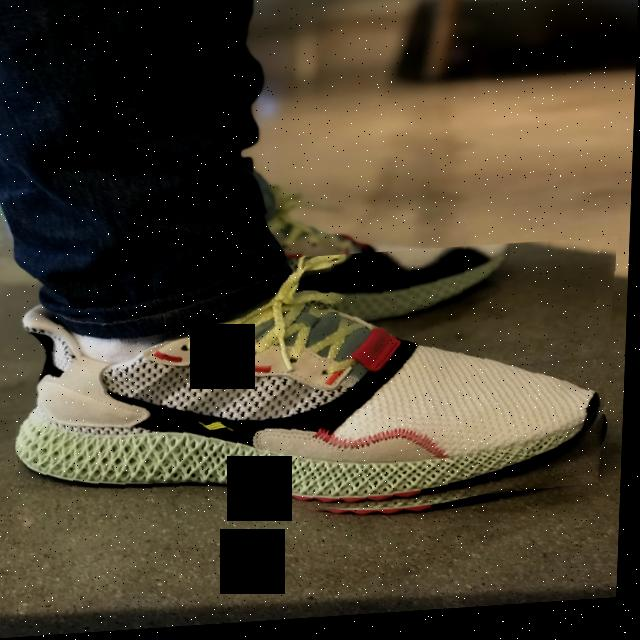shoe: (16, 245, 621, 544), (253, 167, 519, 345)
